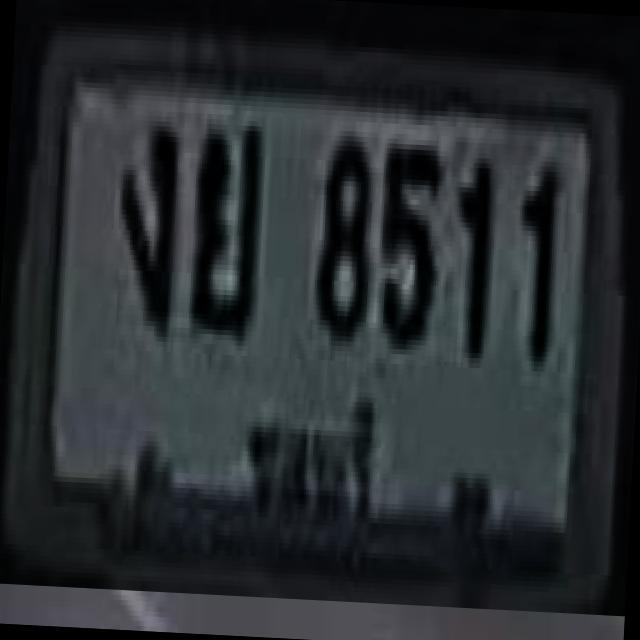license_plate: (4, 8, 638, 602)
